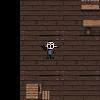Jason: (40, 40, 59, 59)
Obstacle: (23, 82, 53, 100), (80, 17, 100, 35), (79, 0, 100, 13)
